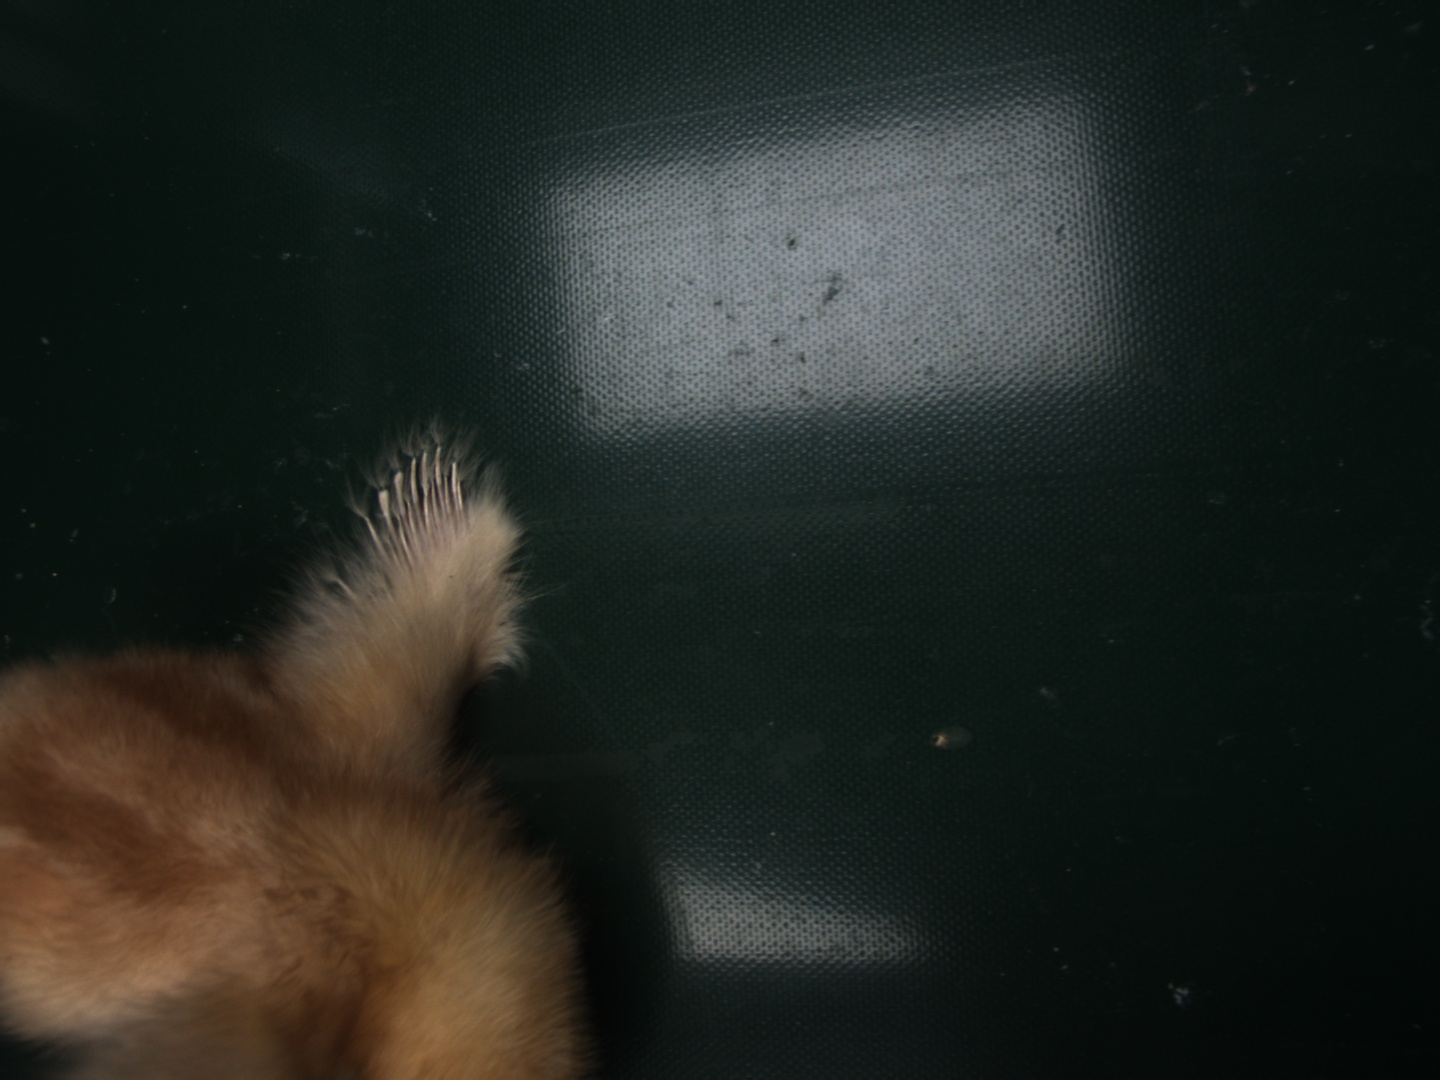female: (359, 445, 469, 566)
